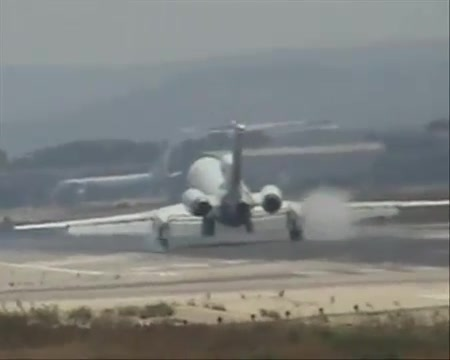aeroplane: (13, 124, 449, 256)
